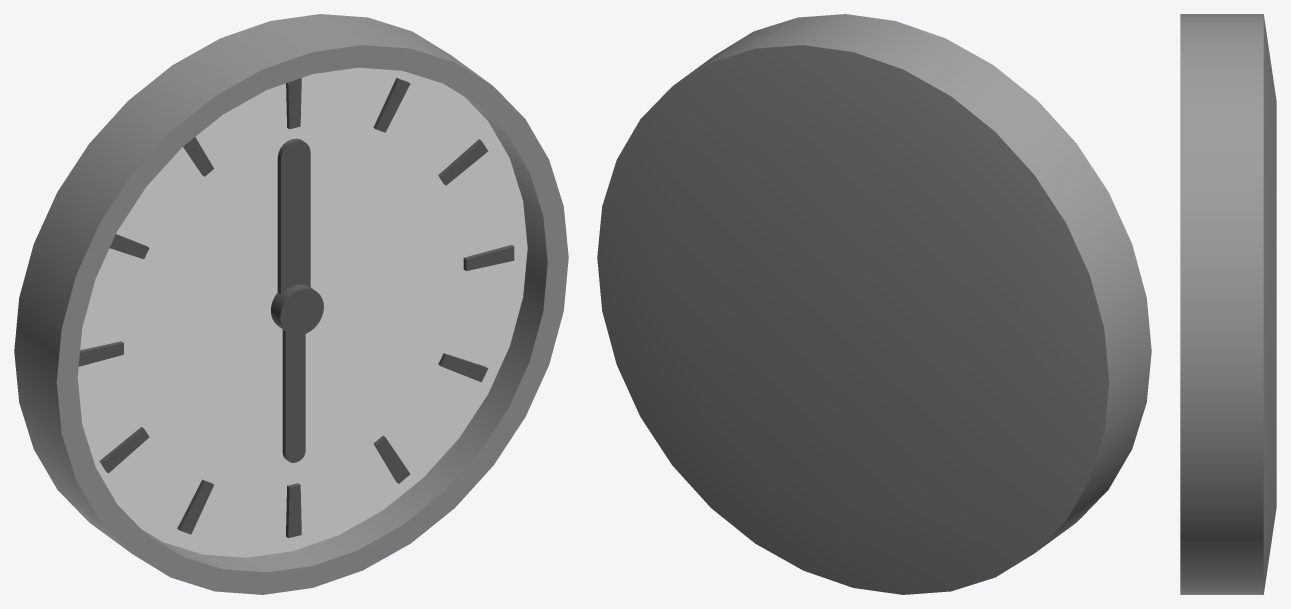
The model's file is twelve_thirty.gltf.
3 renders of one model, left to right at view 1: azimuth 30°, elevation 25°; view 2: azimuth 150°, elevation 25°; view 3: azimuth 270°, elevation 25°, orthographic.
Visible parts, largest first — view 1: Circle.2432, Circle.2433, Plane.252, Plane.253; view 2: Circle.2432; view 3: Circle.2432.
Boxes of the visible parts, <box> form: Circle.2432: <box>14,14,568,594</box>; Circle.2433: <box>78,78,514,537</box>; Plane.252: <box>277,138,310,294</box>; Plane.253: <box>282,329,305,462</box>; Circle.2432: <box>597,14,1151,594</box>; Circle.2432: <box>1180,14,1276,594</box>.
Bounding box in the file's own units: 2.33 × 2.33 × 0.387.
Materials: 1 (1 with a texture image).
